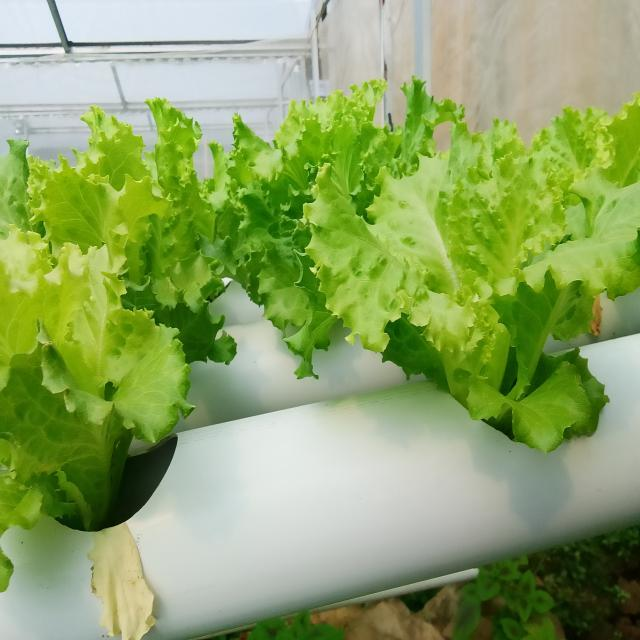Baby: (333, 98, 640, 452), (0, 228, 194, 534), (200, 92, 399, 378), (28, 108, 236, 363)
